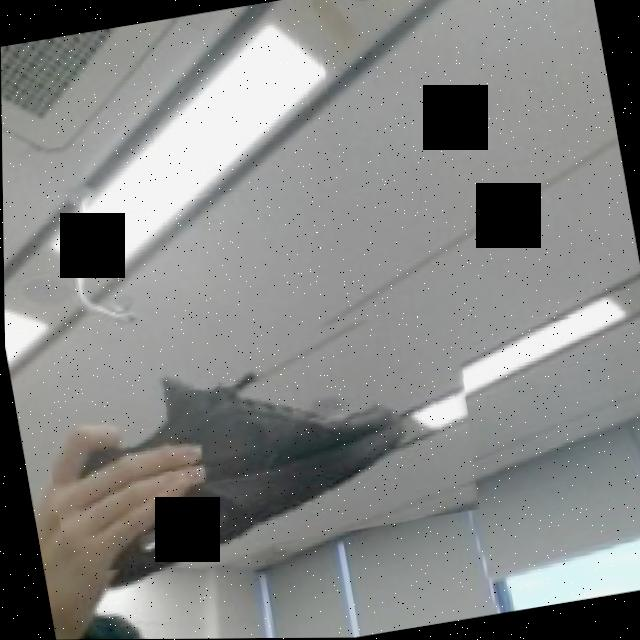shoe: (30, 289, 488, 577)
